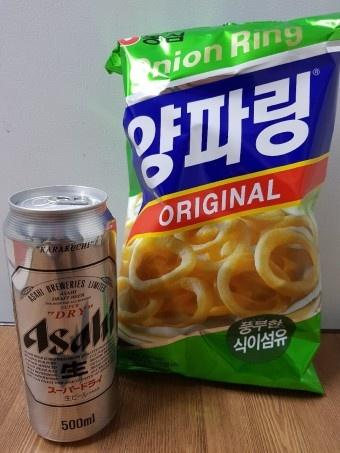snack: (104, 10, 340, 398)
